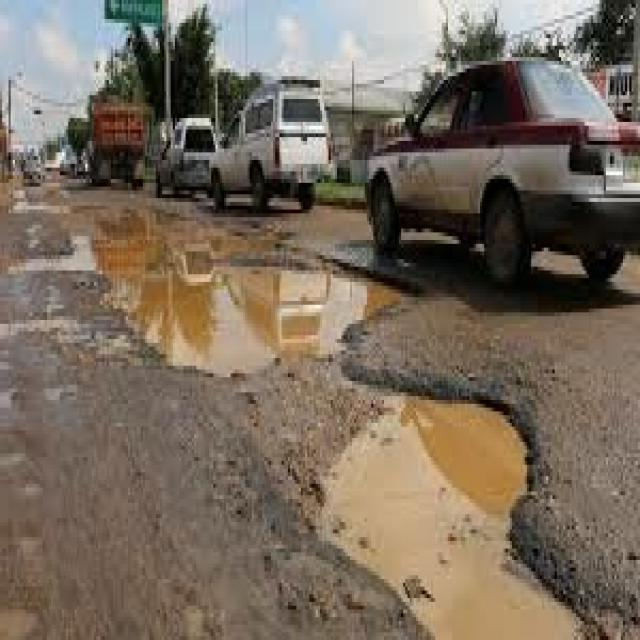pothole: (243, 346, 625, 640), (0, 198, 433, 373)
